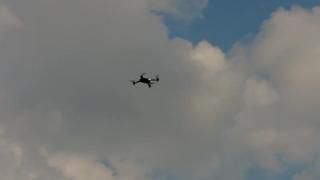UAV: (130, 72, 161, 89)
